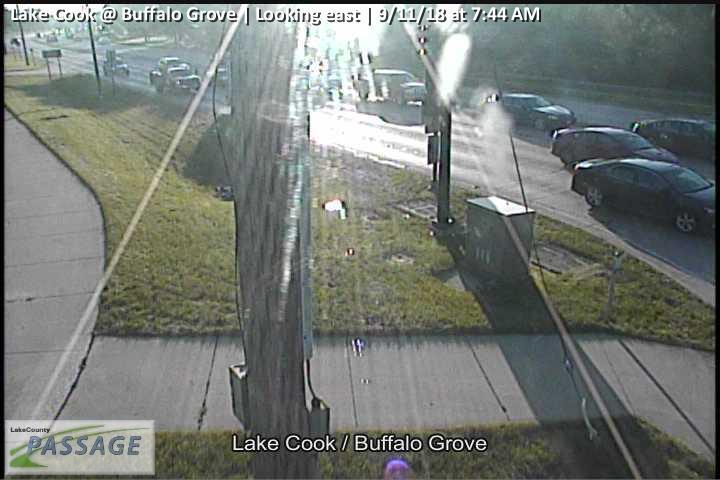SUV: (495, 93, 575, 135)
Sedan: (571, 157, 716, 236), (550, 126, 679, 177), (631, 118, 718, 163)
